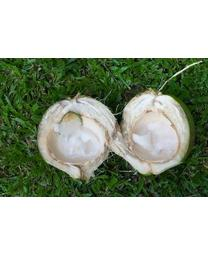coconut: (34, 91, 120, 180), (120, 86, 194, 176)
